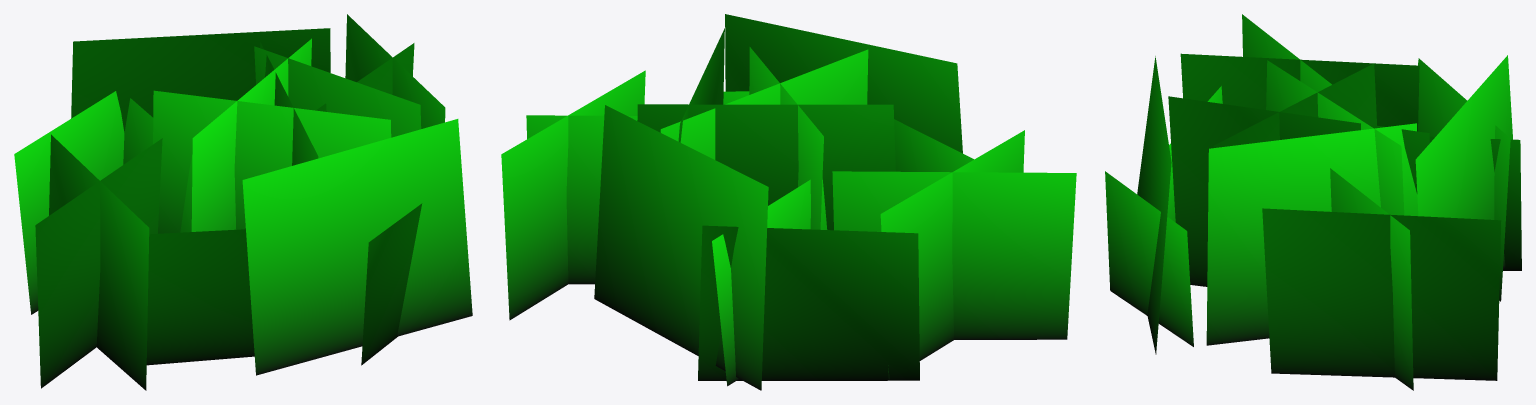
File: Grass_Size04.fbx
The picture shows the model from 3 angles, left to right: view 1: azimuth 30°, elevation 25°; view 2: azimuth 150°, elevation 25°; view 3: azimuth 270°, elevation 25°; orthographic projection.
Visible parts, largest first — view 1: PP_grass_04; view 2: PP_grass_04; view 3: PP_grass_04.
Boxes of the visible parts, <box> form: PP_grass_04: <box>14,14,472,390</box>; PP_grass_04: <box>501,14,1076,390</box>; PP_grass_04: <box>1105,14,1521,390</box>.
Size of the model in its own units: 97.54 by 43.11 by 77.
